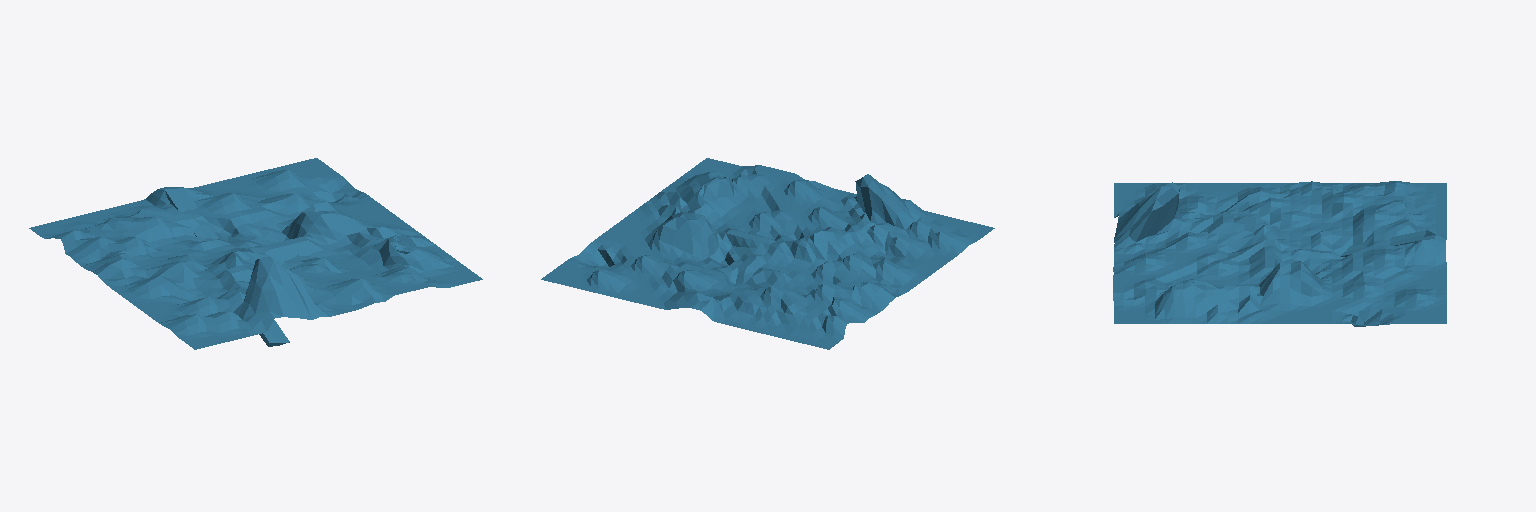
The model's file is Arena.obj.
3 renders of one model, left to right at view 1: azimuth 30°, elevation 25°; view 2: azimuth 150°, elevation 25°; view 3: azimuth 270°, elevation 25°, orthographic.
Parts seen in each view (by area): view 1: Plane; view 2: Plane; view 3: Plane.
Part boxes in pixels (x1,y1,x2,y2): Plane: (29,158,482,349); Plane: (541,158,994,349); Plane: (1113,181,1446,326).
Bounding box in the file's own units: 12.75 × 4.16 × 12.76.